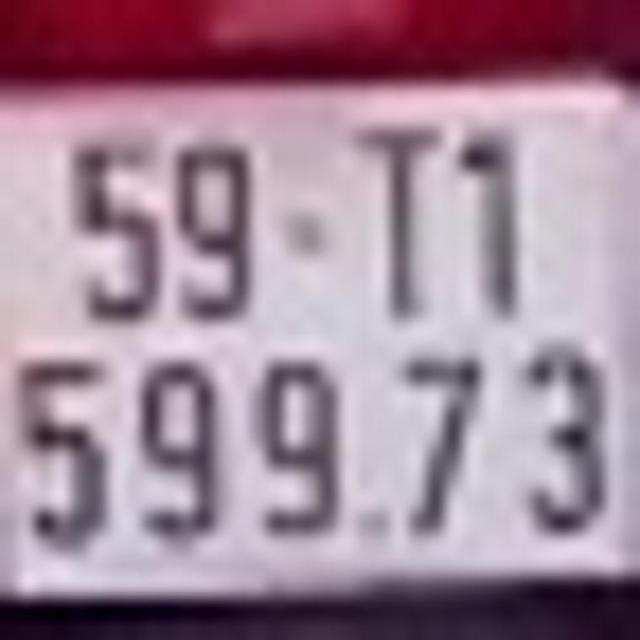1: (456, 114, 526, 319)
3: (517, 338, 612, 535)
5: (65, 126, 162, 326), (14, 354, 109, 544)
7: (398, 346, 484, 536)
9: (251, 343, 340, 532), (134, 354, 224, 532), (173, 136, 254, 321)
T: (350, 114, 440, 317)
